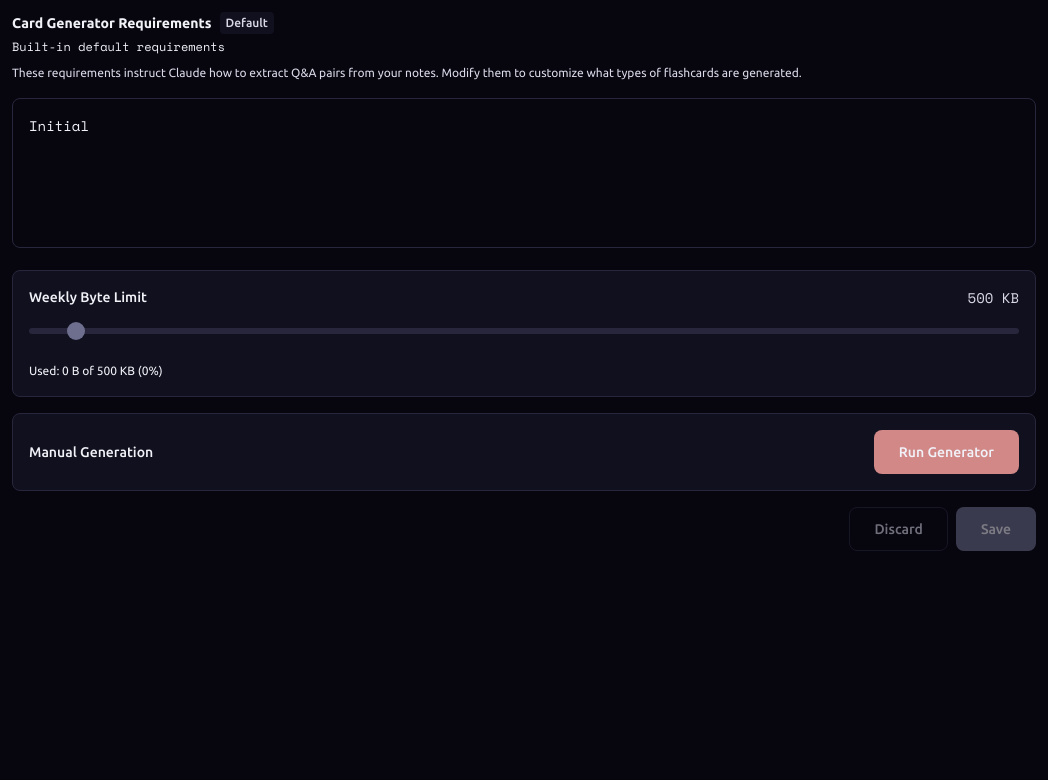
Scenario: CardGeneratorEditor › editing requirements › enables Save button when content changes
Expected: the button "Save" is disabled, x1=956 y1=507 x2=1036 y2=551
# Edit content
Replace the text in the text box with "Changed" at (524, 173), box x1=12 y1=98 x2=1036 y2=248
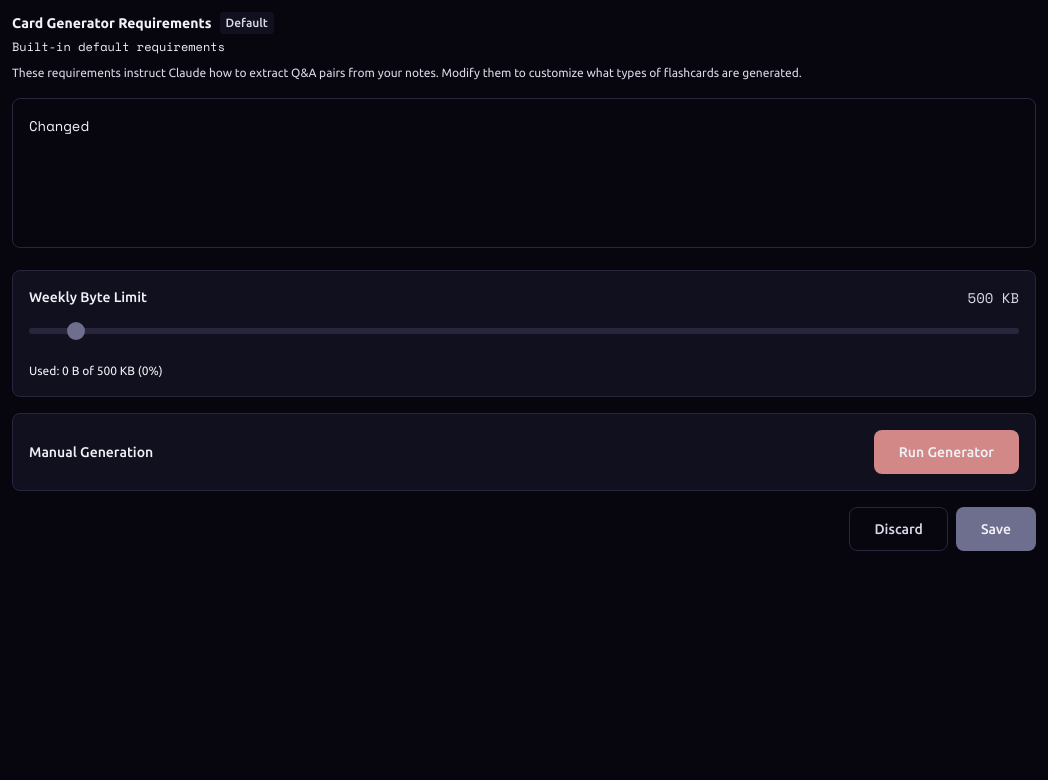
Result: the button "Save" is enabled at x1=956 y1=507 x2=1036 y2=551
